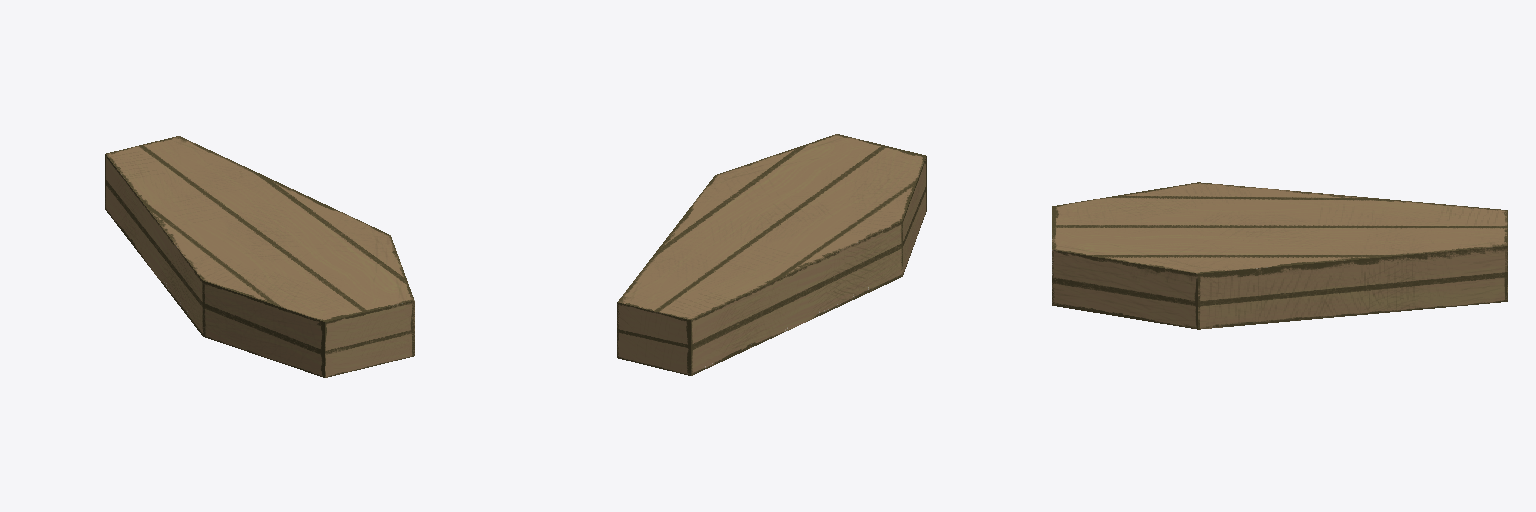
The picture shows the model from 3 angles: view 1: azimuth 30°, elevation 25°; view 2: azimuth 150°, elevation 25°; view 3: azimuth 270°, elevation 25°; orthographic projection.
Visible parts, largest first — view 1: pCube1_0; view 2: pCube1_0; view 3: pCube1_0.
Part boxes in pixels (left/top/right/bottom): pCube1_0: left=105, top=136, right=414, bottom=377; pCube1_0: left=617, top=134, right=926, bottom=375; pCube1_0: left=1052, top=182, right=1507, bottom=329.
Size of the model in its own units: 3.52 by 1 by 7.39.
Materials: 1 (1 with a texture image).